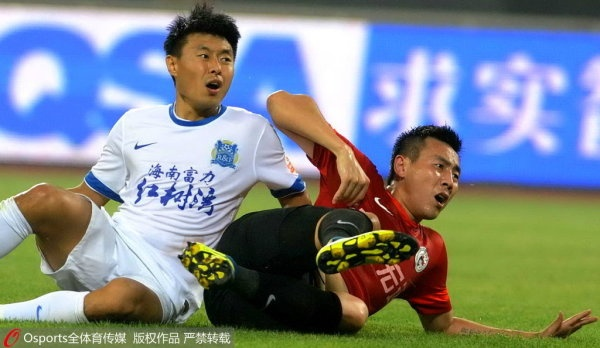falling: (216, 67, 571, 343)
